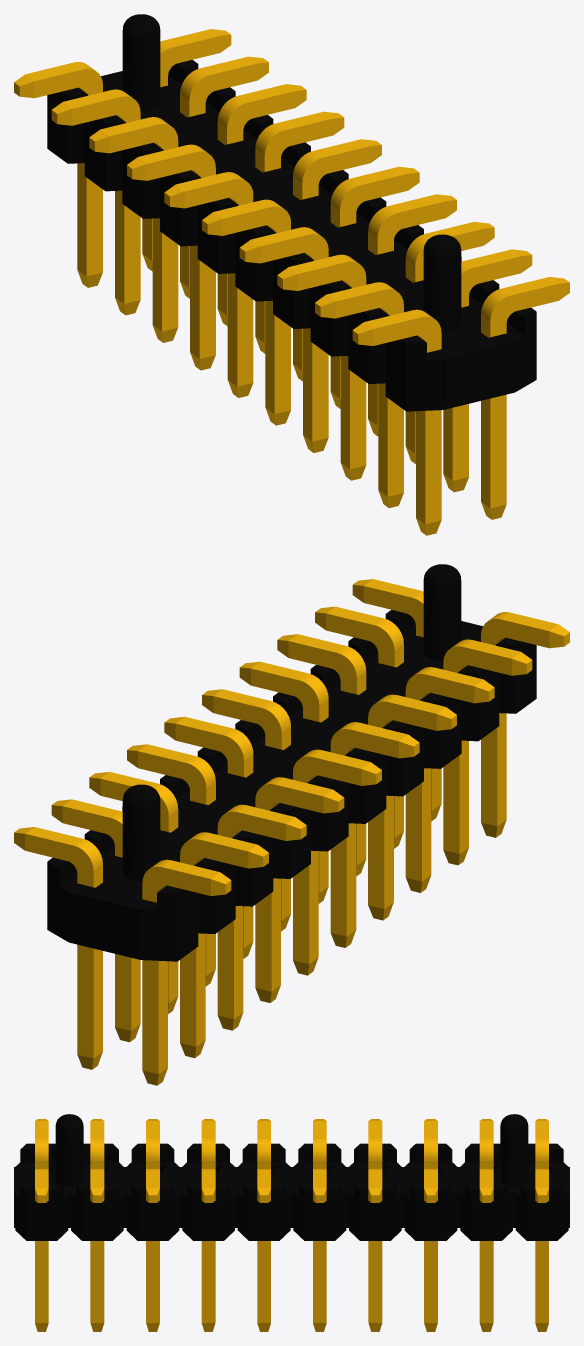
File: sfe-2x10_2.0mm_header_smd_pegs-1.0mm_22817.glb
3 views of the same model, one above another, from view 1: azimuth 30°, elevation 25°; view 2: azimuth 150°, elevation 25°; view 3: azimuth 270°, elevation 25° (orthographic). The views are drawn at different scales.
Parts seen in each view (by area): view 1: 0.9166666666666666_0.5_0_0, 0_0_0_0; view 2: 0.9166666666666666_0.5_0_0, 0_0_0_0; view 3: 0_0_0_0, 0.9166666666666666_0.5_0_0.
Boxes of the visible parts, bbox=[...] form: 0.9166666666666666_0.5_0_0: bbox=[14, 29, 569, 535]; 0_0_0_0: bbox=[47, 14, 536, 411]; 0.9166666666666666_0.5_0_0: bbox=[14, 579, 569, 1085]; 0_0_0_0: bbox=[47, 564, 536, 961]; 0_0_0_0: bbox=[14, 1114, 569, 1240]; 0.9166666666666666_0.5_0_0: bbox=[35, 1119, 548, 1331].
Size of the model in its own units: 0.65 by 0.8 by 2.
